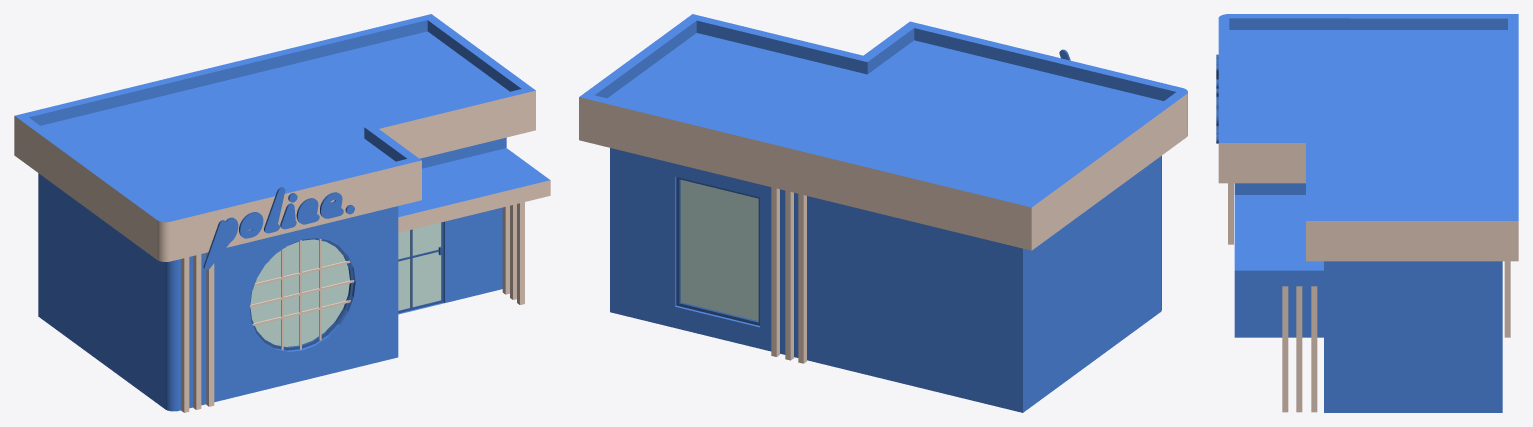
File: PoliceStation.fbx
3 views of the same model, side by side, from view 1: azimuth 30°, elevation 25°; view 2: azimuth 150°, elevation 25°; view 3: azimuth 270°, elevation 25° (orthographic). The views are drawn at different scales.
Parts seen in each view (by area): view 1: police_station; view 2: police_station; view 3: police_station.
Part boxes in pixels (x1,y1,x2,y2): police_station: [14, 14, 550, 412]; police_station: [579, 14, 1187, 412]; police_station: [1216, 14, 1518, 412].
Bounding box in the file's own units: 845 × 400 × 522.
